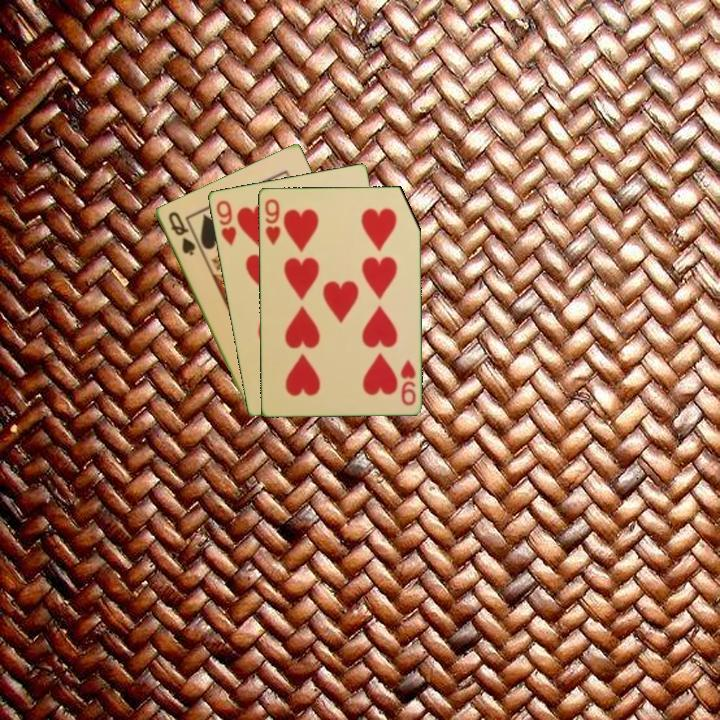9h: (212, 196, 239, 248), (261, 195, 283, 247), (396, 356, 418, 408)
Qs: (164, 208, 198, 258)
